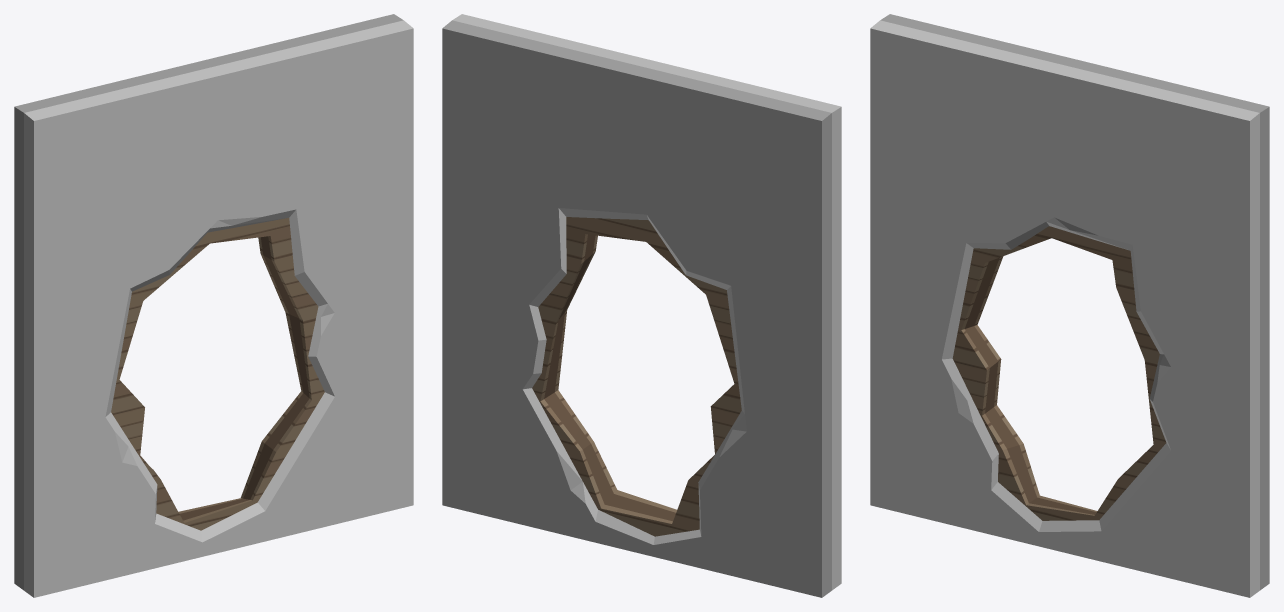
The model's file is SM_Bld_Wall_Hole_03.fbx.
3 views of the same model, side by side, from view 1: azimuth 30°, elevation 25°; view 2: azimuth 150°, elevation 25°; view 3: azimuth 330°, elevation 25° (orthographic).
Parts seen in each view (by area): view 1: SM_Bld_Wall_Hole_03; view 2: SM_Bld_Wall_Hole_03; view 3: SM_Bld_Wall_Hole_03.
Part boxes in pixels (box(x1,y1,x2,y2)): SM_Bld_Wall_Hole_03: box(14, 14, 413, 597); SM_Bld_Wall_Hole_03: box(442, 14, 841, 597); SM_Bld_Wall_Hole_03: box(870, 14, 1269, 597).
Size of the model in its own units: 250 by 301 by 22.5.
